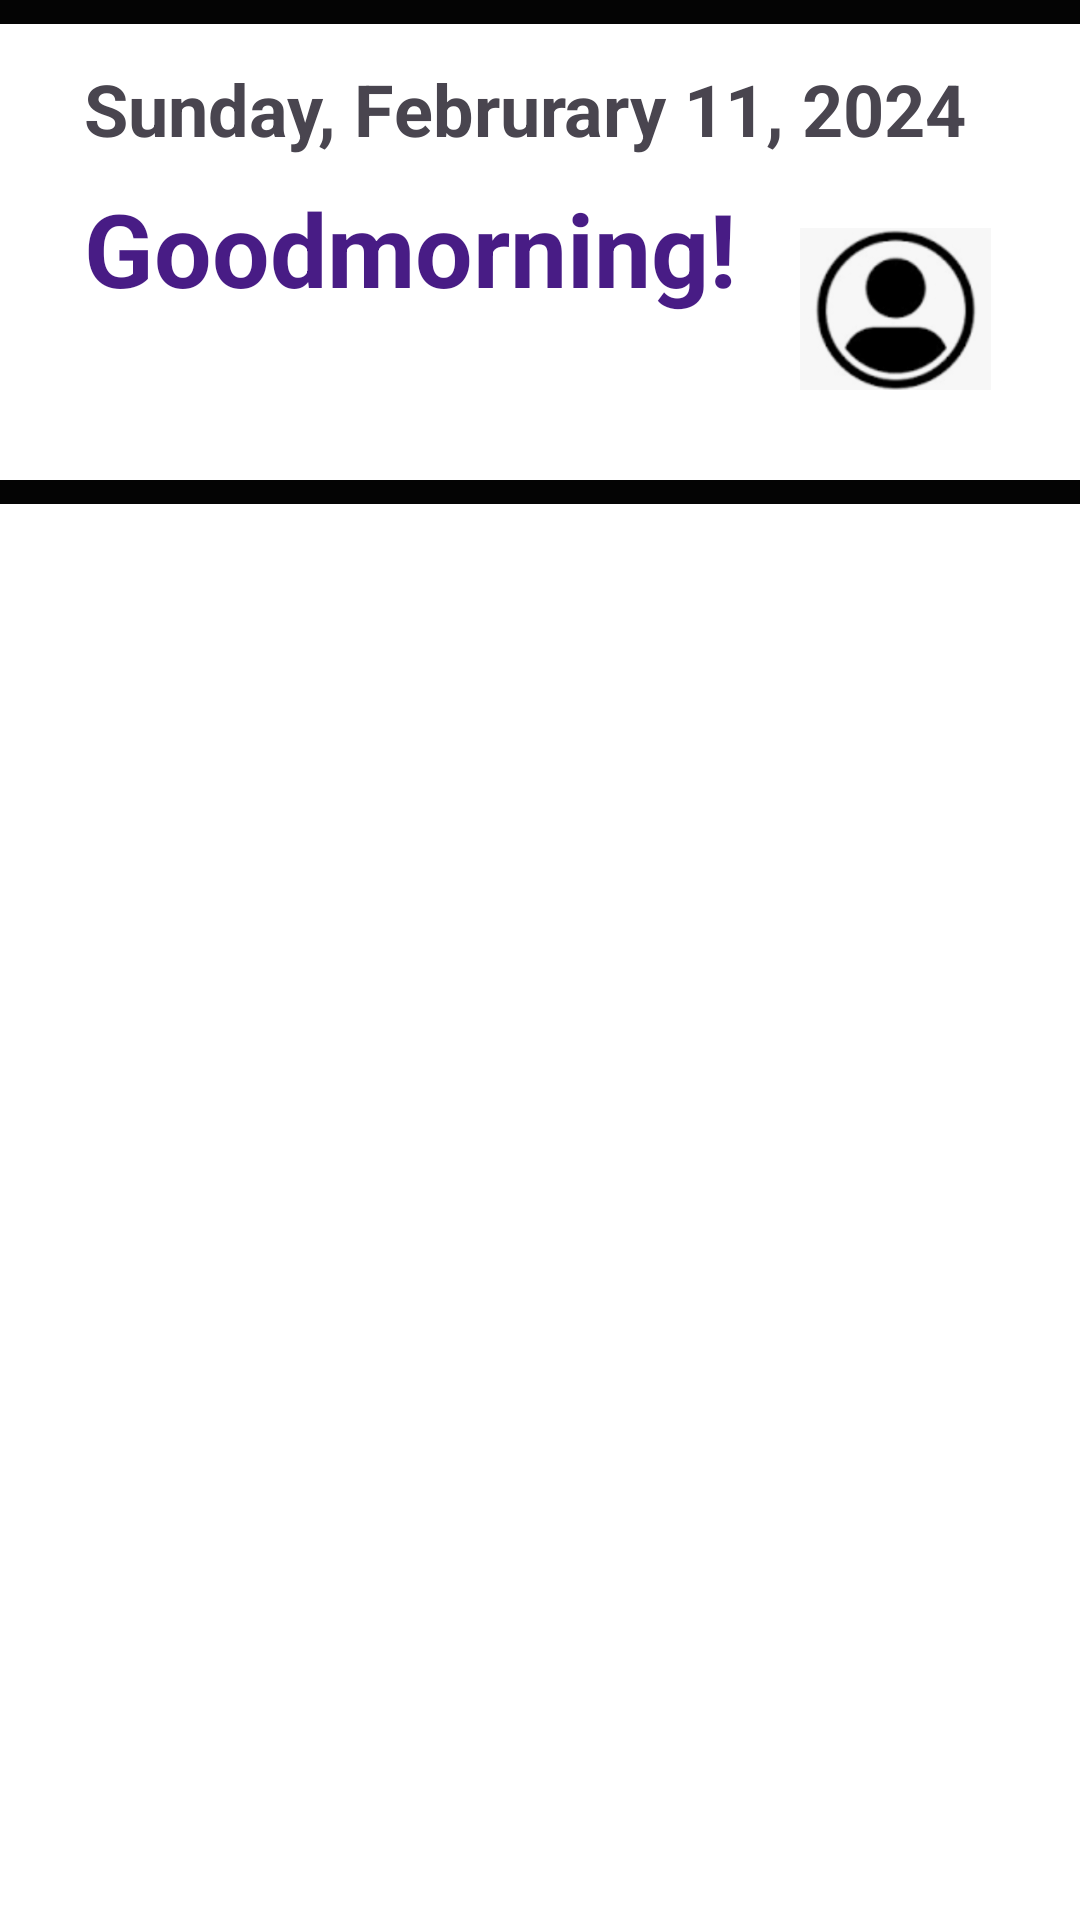

Screen size 1080x1920. Icon name, then its center in pixels as (x=x, y=y):
profile: (x=896, y=310)
